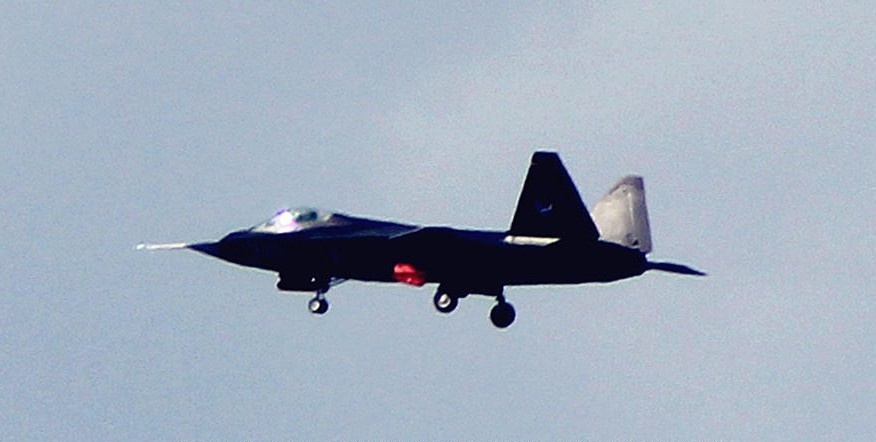airplane: (114, 143, 707, 331)
